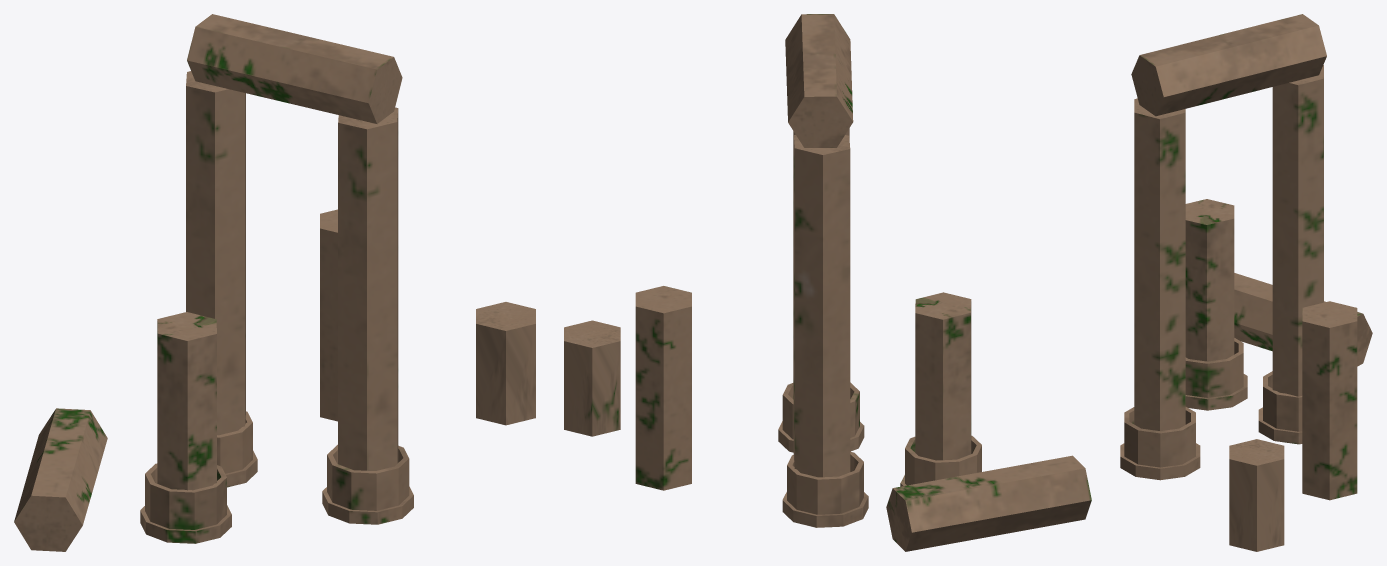
Rendered from Pillers.fbx.
3 views of the same model, side by side, from view 1: azimuth 30°, elevation 25°; view 2: azimuth 150°, elevation 25°; view 3: azimuth 270°, elevation 25° (orthographic). The views are drawn at different scales.
Visible parts, largest first — view 1: pCylinder12, pCylinder8, pCylinder11, pCylinder4, pCylinder10, pCylinder7, column_bottom4, column_bottom3, pCylinder9, column_bottom5; view 2: pCylinder8, pCylinder10, pCylinder9, pCylinder4, pCylinder11, pCylinder7, column_bottom5, column_bottom3, column_bottom4; view 3: pCylinder12, pCylinder8, pCylinder11, pCylinder9, pCylinder4, pCylinder7, column_bottom4, pCylinder10, column_bottom3, column_bottom5.
Part boxes in pixels (x1,y1,x2,y2): pCylinder12: [338, 107, 398, 470]; pCylinder8: [186, 71, 245, 435]; pCylinder11: [187, 14, 402, 123]; pCylinder4: [157, 312, 216, 490]; pCylinder10: [14, 408, 107, 551]; pCylinder7: [476, 302, 535, 425]; column_bottom4: [322, 444, 413, 524]; column_bottom3: [140, 463, 231, 543]; pCylinder9: [320, 209, 337, 421]; column_bottom5: [217, 411, 257, 487]; pCylinder8: [793, 134, 850, 477]; pCylinder10: [886, 455, 1091, 551]; pCylinder9: [635, 286, 691, 490]; pCylinder4: [915, 292, 971, 460]; pCylinder11: [785, 14, 853, 147]; pCylinder7: [564, 320, 620, 436]; column_bottom5: [782, 451, 868, 527]; column_bottom3: [900, 435, 981, 486]; column_bottom4: [778, 382, 864, 452]; pCylinder12: [1134, 98, 1185, 430]; pCylinder8: [1272, 65, 1323, 396]; pCylinder11: [1131, 14, 1326, 116]; pCylinder9: [1302, 301, 1357, 500]; pCylinder4: [1185, 199, 1234, 361]; pCylinder7: [1229, 439, 1284, 551]; column_bottom4: [1120, 407, 1200, 480]; pCylinder10: [1234, 273, 1372, 366]; column_bottom3: [1185, 338, 1247, 410]; column_bottom5: [1258, 371, 1302, 444].
Size of the model in its own units: 6.12 by 4.8 by 2.7.
1 material, 1 textured.
